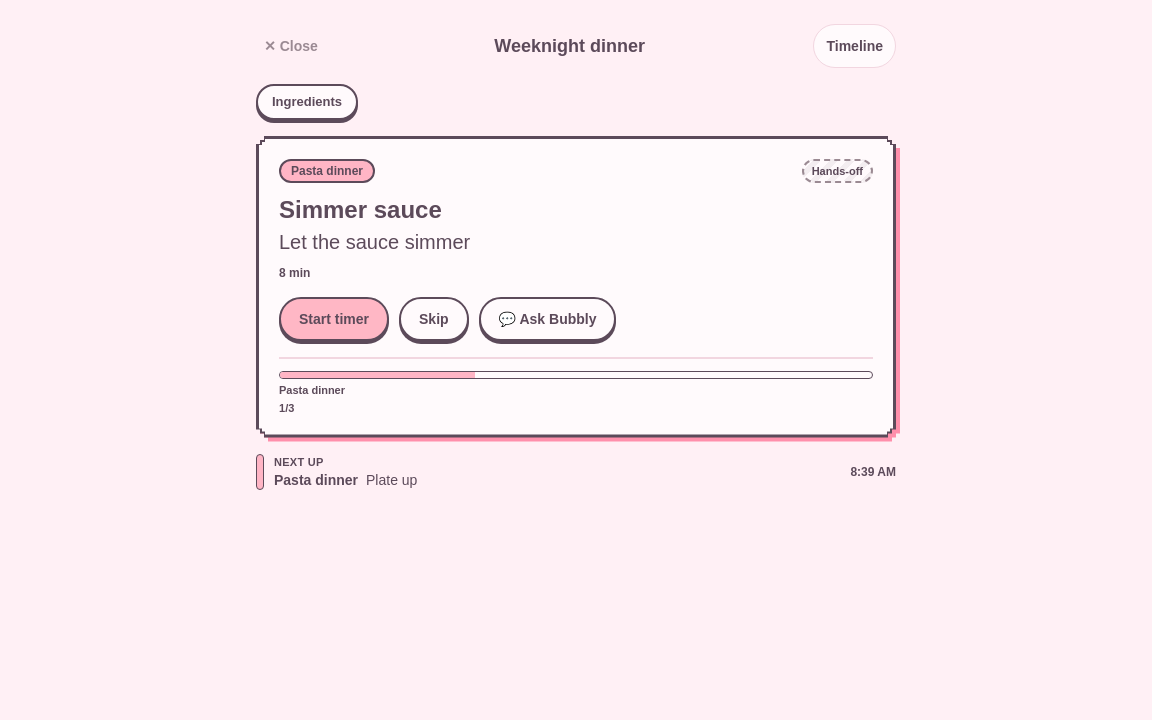
Test: MealCookPage — timeline sheet › opens showing clock times and progress markers for done and current steps
The width and height of the screenshot is (1152, 720).
Expected: the text "Simmer sauce" is shown, [279, 196, 442, 223]
Expected: the text with test id "meal-now-card-badge" reads "Hands-off", [812, 165, 863, 177]
Click the button with aria-label "Open timeline" at (855, 46), box [814, 24, 896, 68]
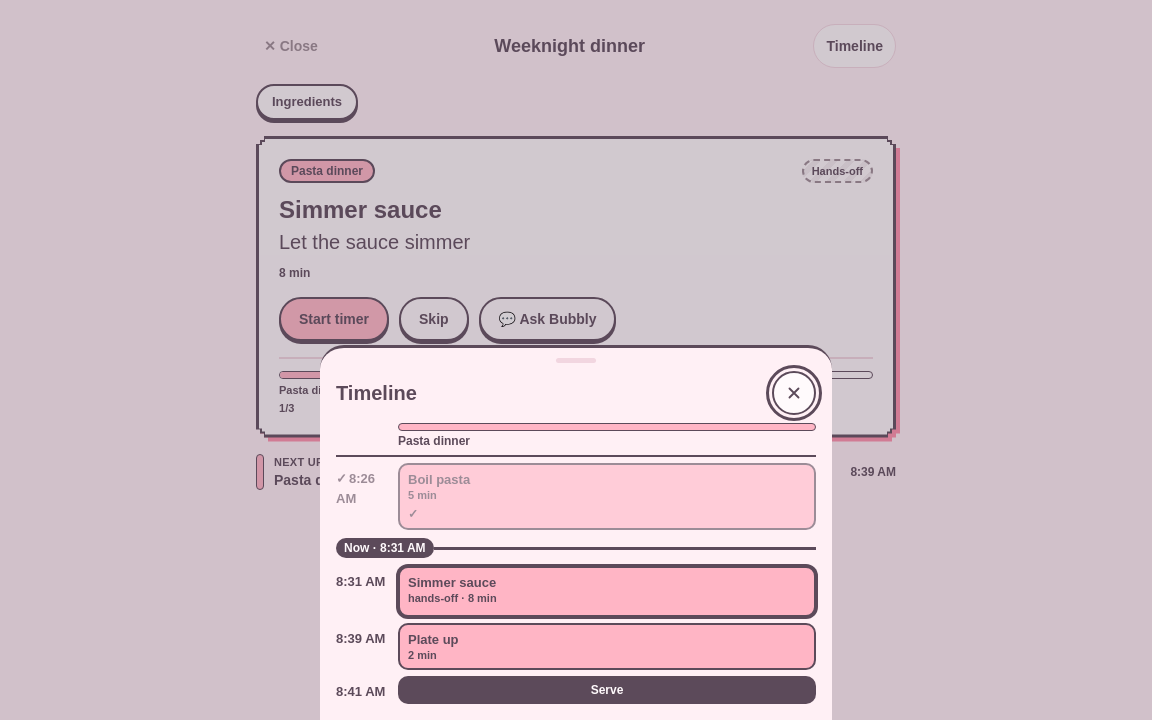
Now the dialog with test id "meal-timeline-sheet" is shown, box [320, 345, 832, 719]
Now the element with test id "meal-timeline-cell-done-marker" is shown, box [408, 506, 418, 522]
